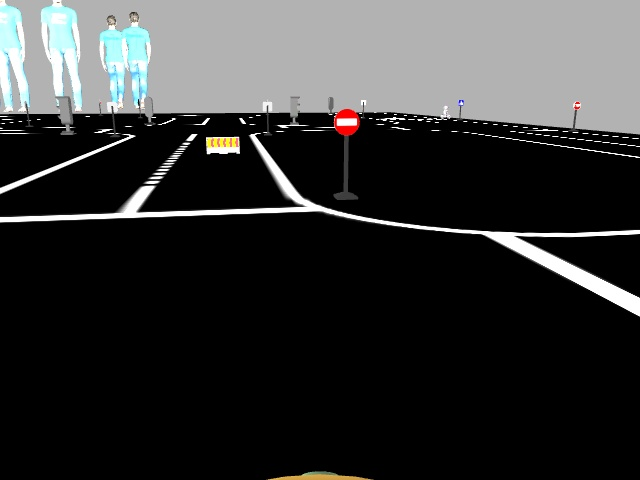ClosedRoadStand: (207, 138, 240, 152)
NoEntry: (333, 108, 358, 133)
